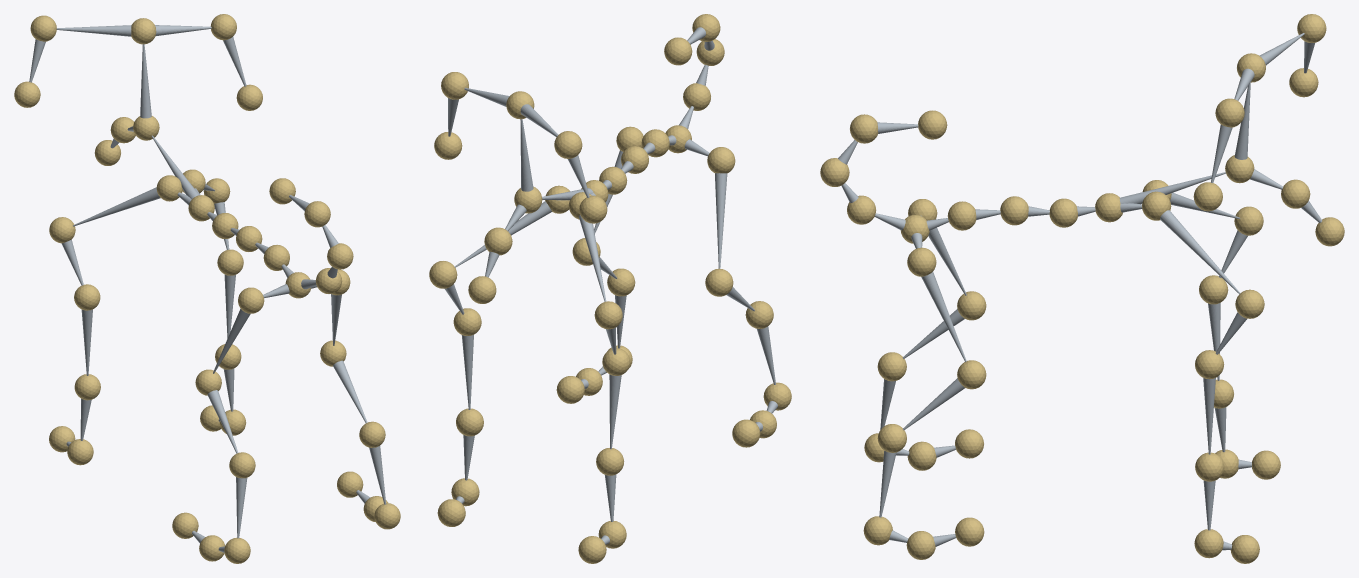
File: skeleton.glb
3 views of the same model, side by side, from view 1: azimuth 30°, elevation 25°; view 2: azimuth 150°, elevation 25°; view 3: azimuth 270°, elevation 25° (orthographic). The views are drawn at different scales.
Parts seen in each view (by area): view 1: geometry_0; view 2: geometry_0; view 3: geometry_0.
Part boxes in pixels (x1=…): geometry_0: x1=14, y1=14, x2=400, y2=563; geometry_0: x1=429, y1=14, x2=791, y2=563; geometry_0: x1=820, y1=14, x2=1344, y2=563.
Bounding box in the file's own units: 0.4029 × 0.8102 × 0.816.
